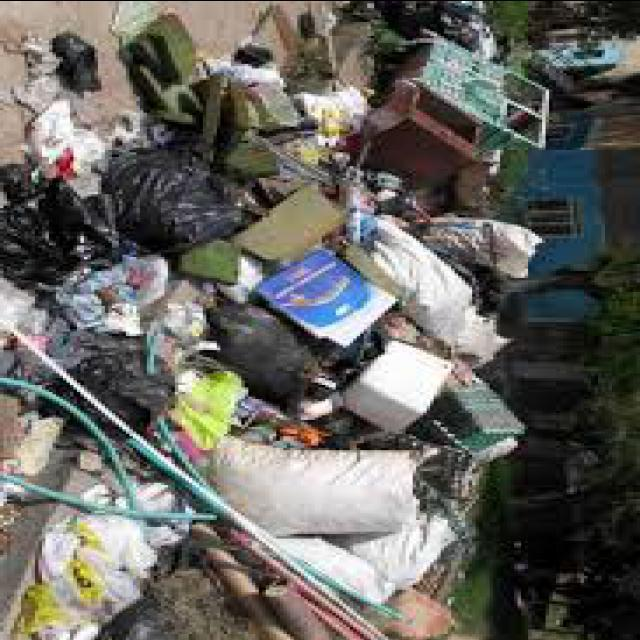Trashbag: (76, 127, 230, 249)
